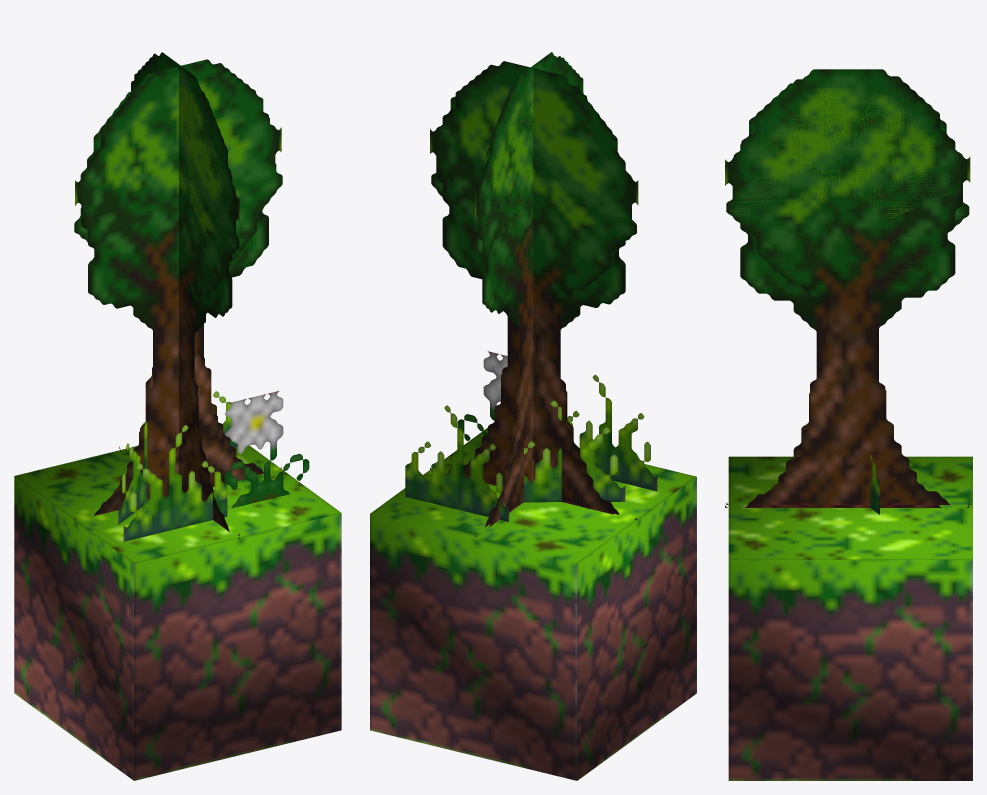
File: Block Tree.fbx
3 views of the same model, side by side, from view 1: azimuth 30°, elevation 25°; view 2: azimuth 150°, elevation 25°; view 3: azimuth 270°, elevation 25° (orthographic). The views are drawn at different scales.
Parts seen in each view (by area): view 1: Cube; view 2: Cube; view 3: Cube.
Part boxes in pixels (x1,y1,x2,y2): Cube: [14, 52, 341, 780]; Cube: [370, 52, 696, 780]; Cube: [725, 69, 972, 780].
Size of the model in its own units: 103 by 301 by 101.
